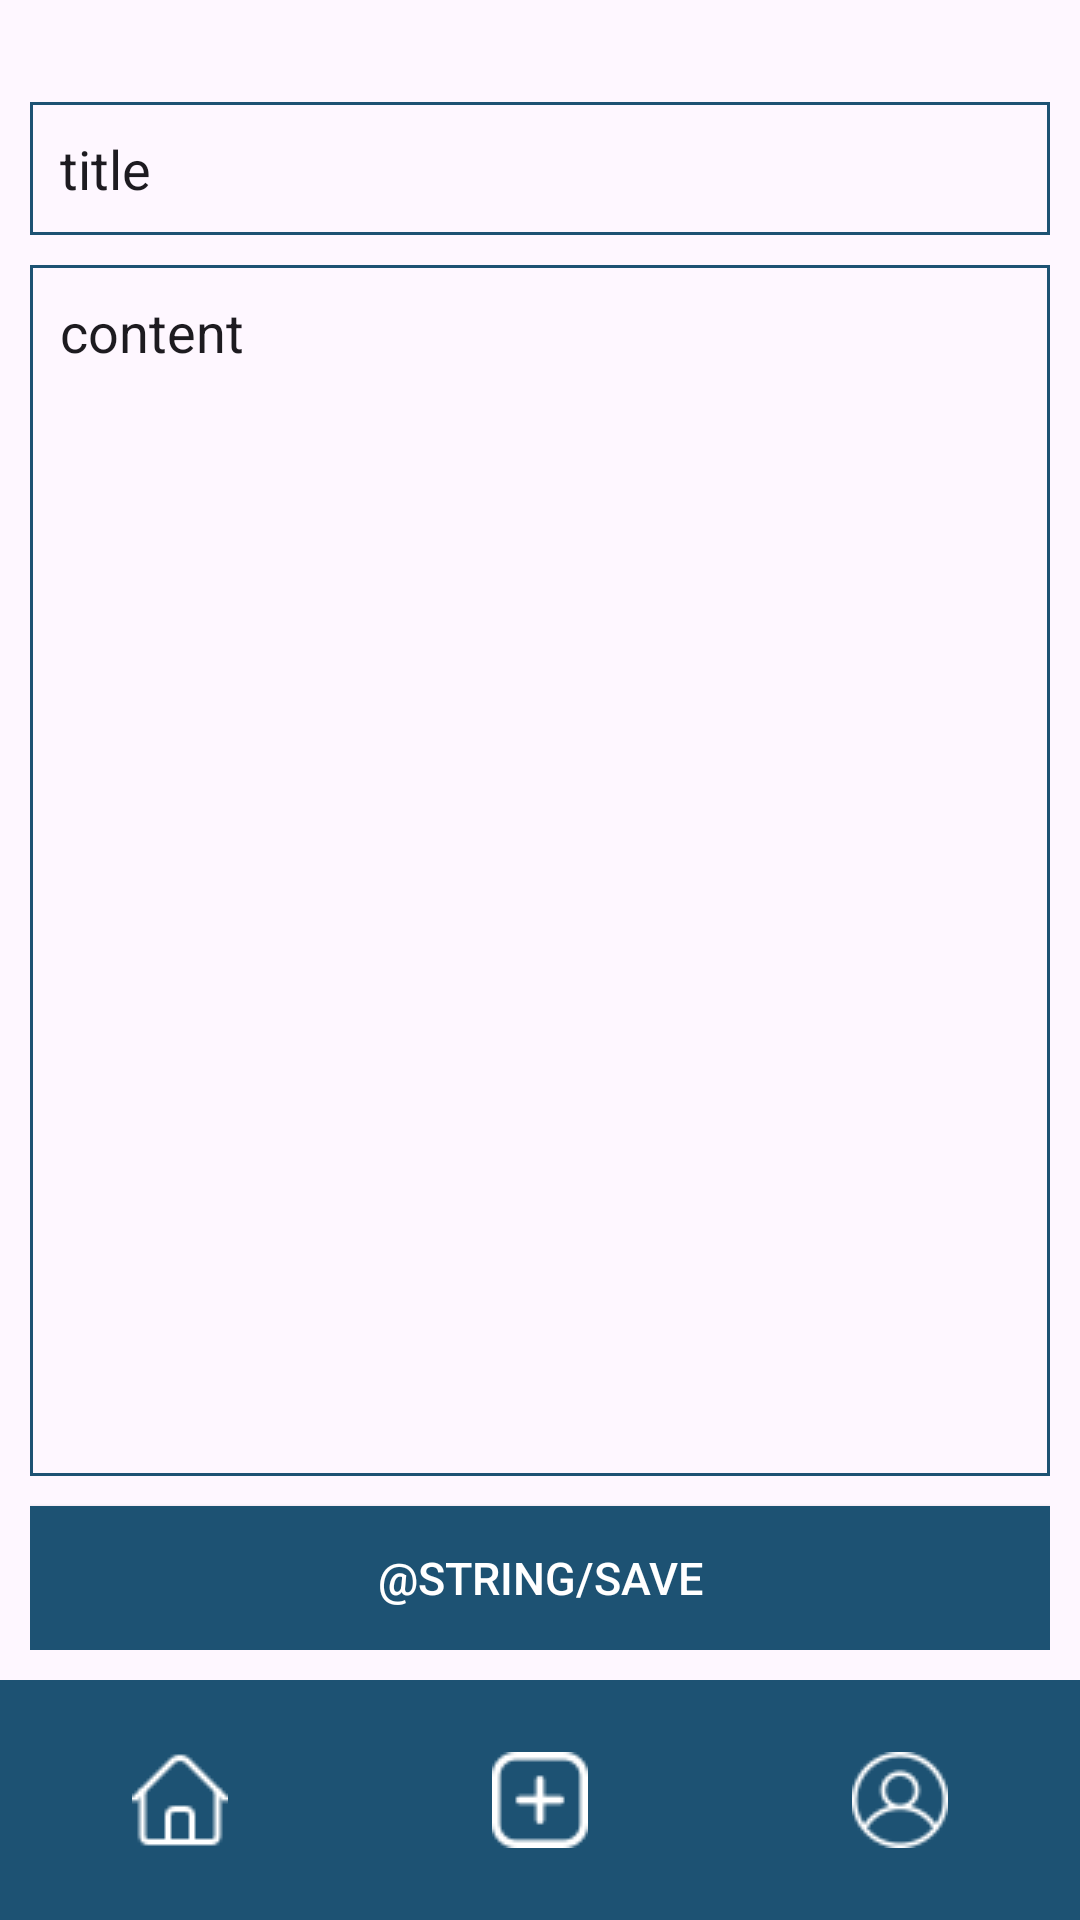

Named icons in this screenshot (1080 x 1920) and their bounding boxes, (x1, y1, x2, y2):
add: (492, 1752, 588, 1848)
home icon: (132, 1754, 228, 1846)
mypage icon: (852, 1752, 948, 1848)
